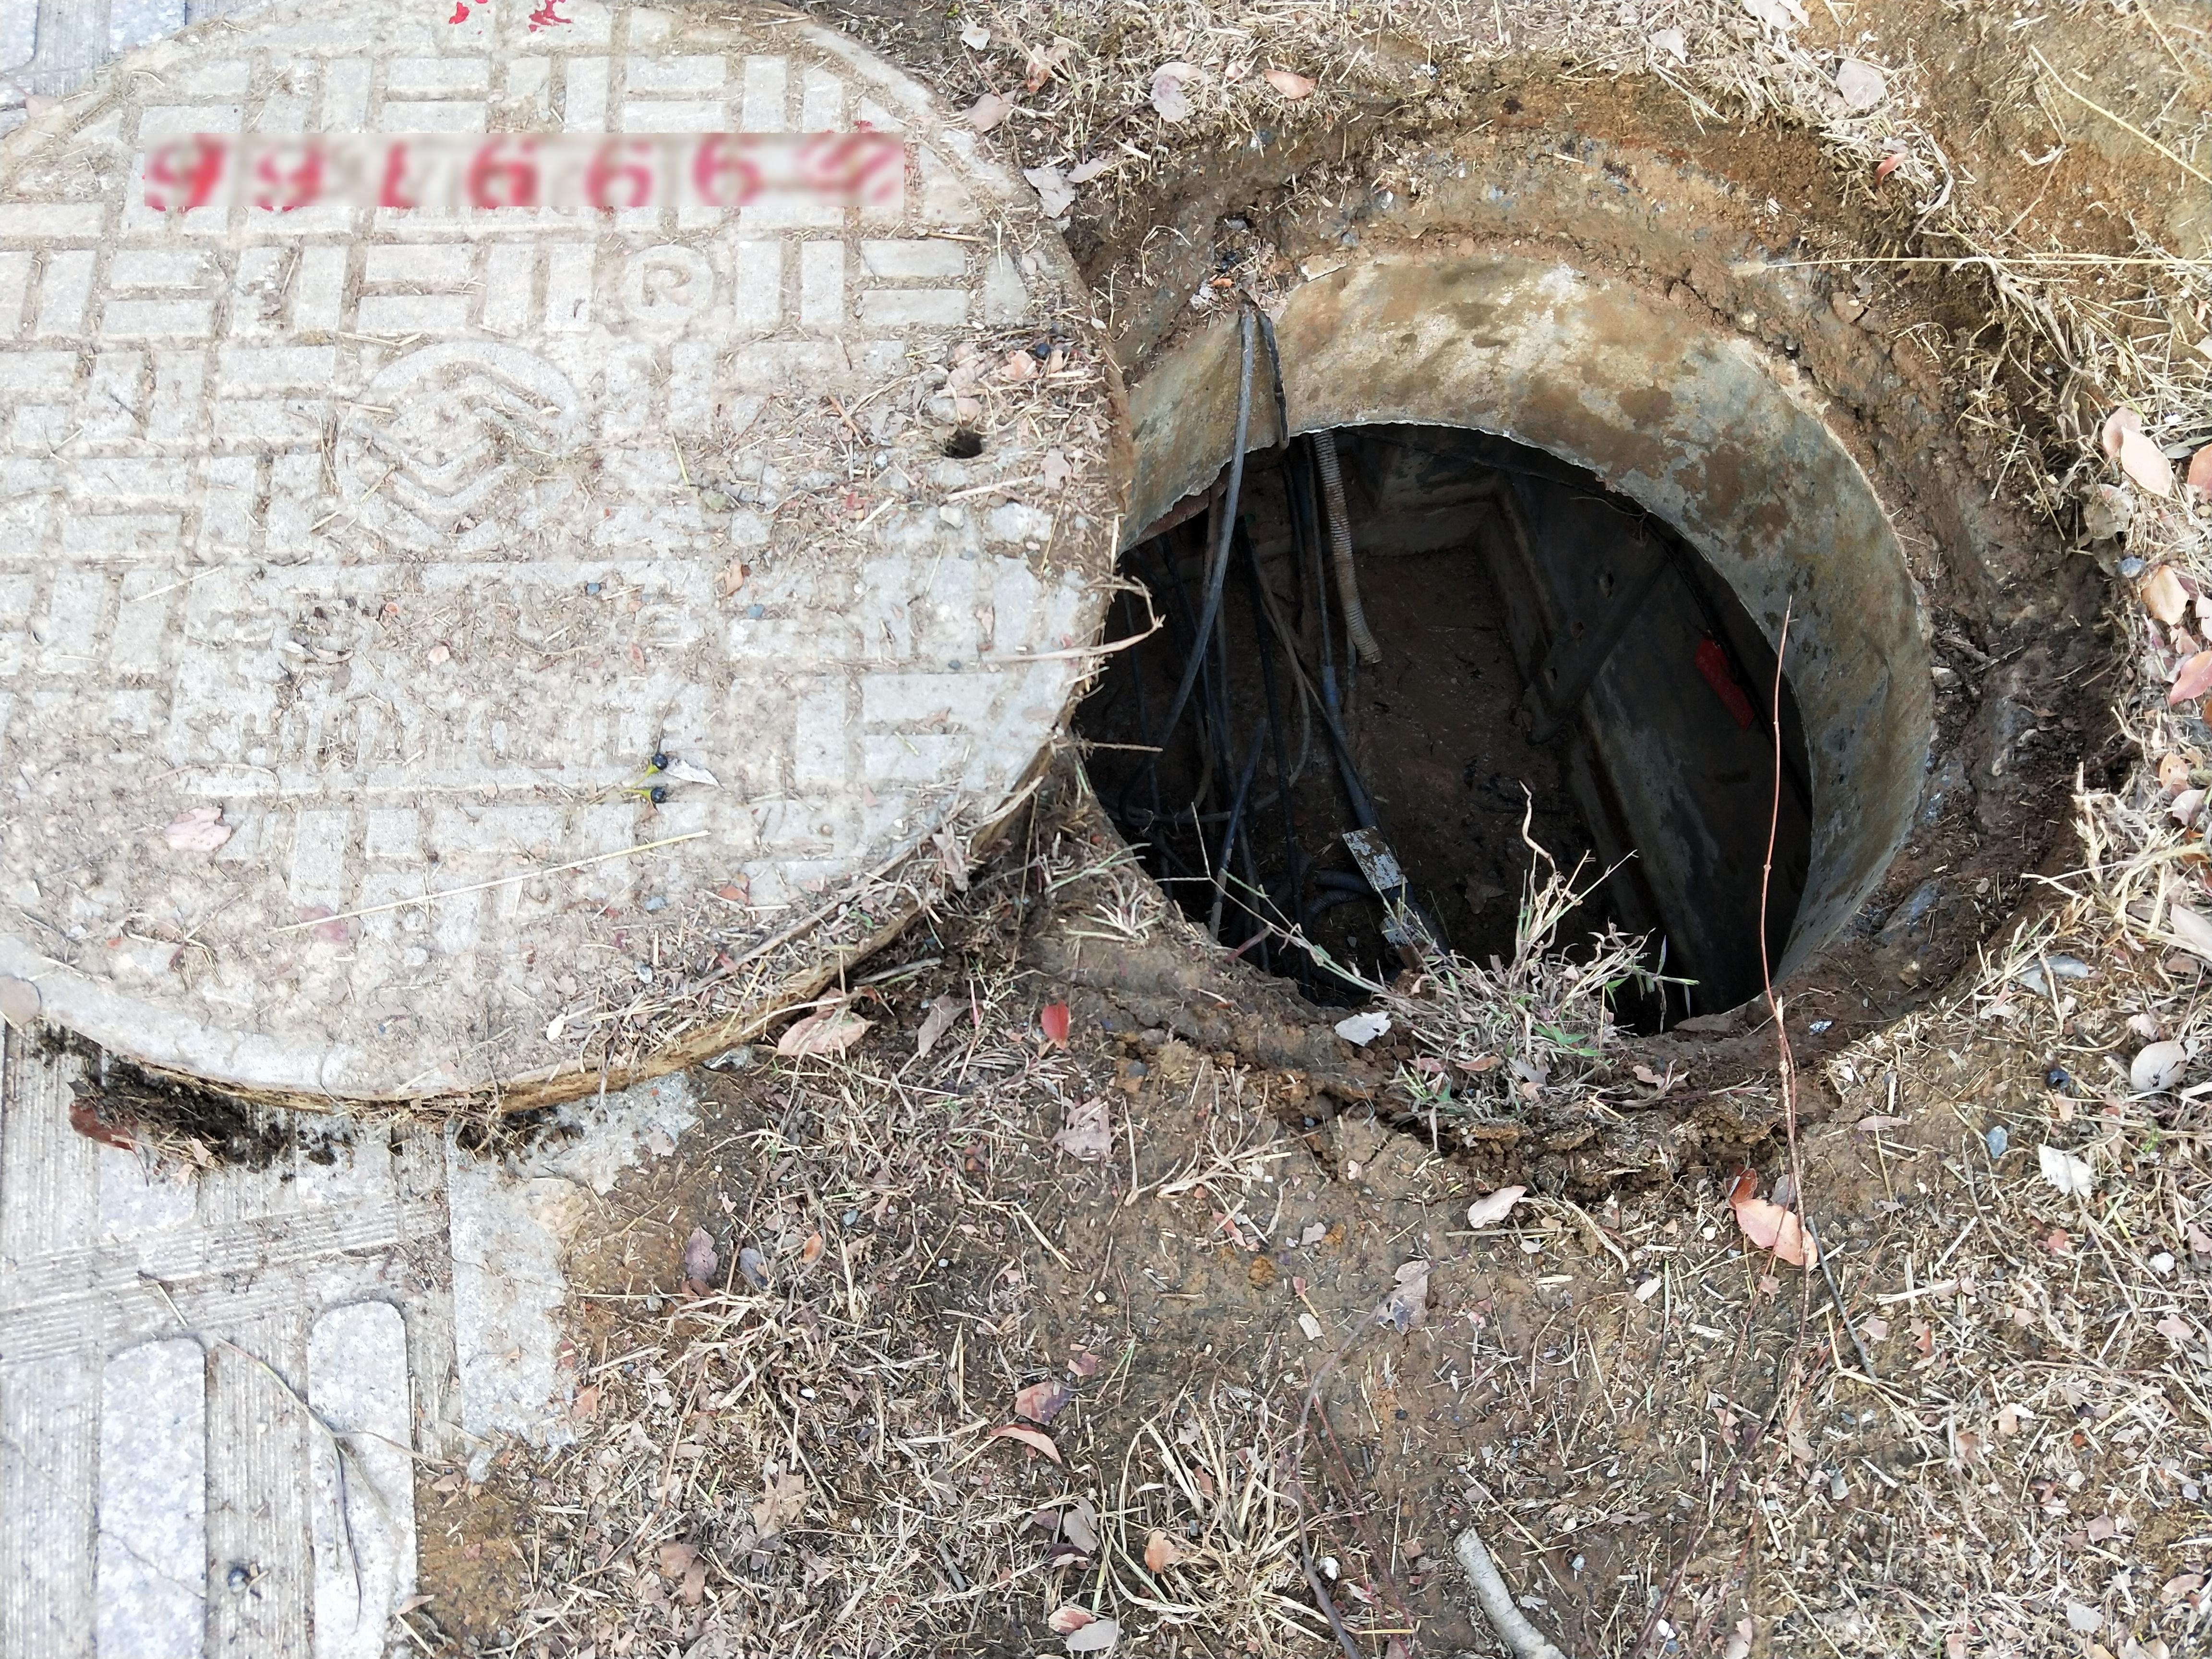wellcover: (17, 0, 2212, 1100)
